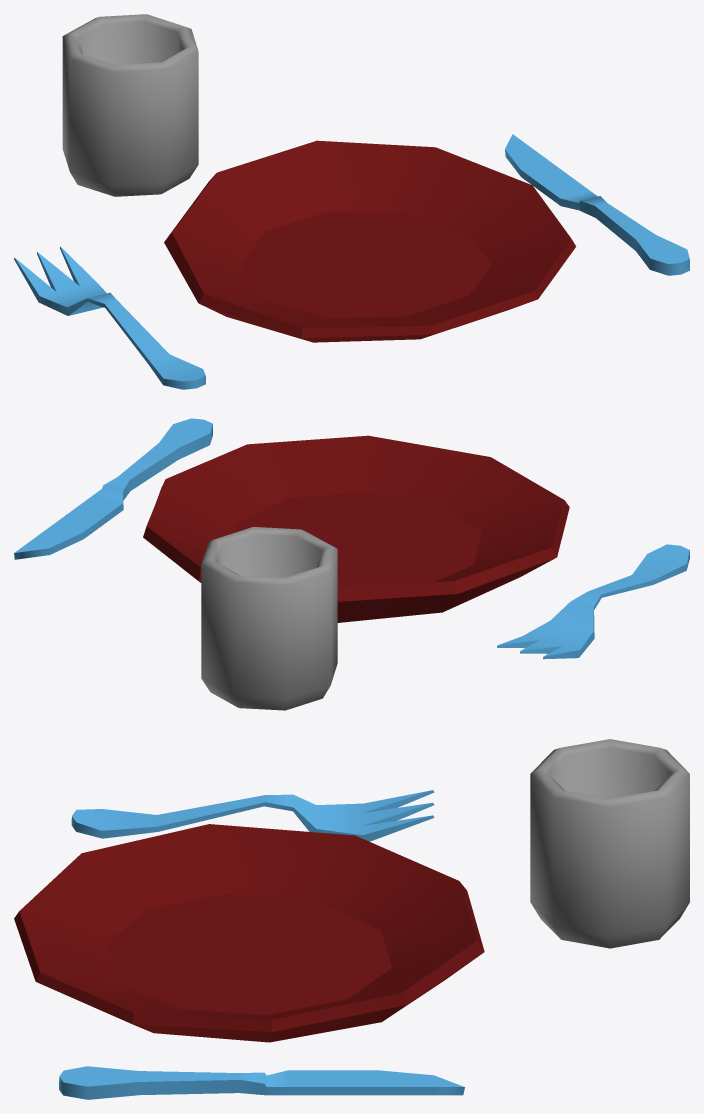
The model's file is Crockery.FBX.
3 views of the same model, one above another, from view 1: azimuth 30°, elevation 25°; view 2: azimuth 150°, elevation 25°; view 3: azimuth 270°, elevation 25° (orthographic). The views are drawn at different scales.
Parts seen in each view (by area): view 1: crockery; view 2: crockery; view 3: crockery.
Part boxes in pixels (<box>): crockery: <box>14,14,689,389</box>; crockery: <box>14,418,689,710</box>; crockery: <box>14,739,689,1099</box>.
Bounding box in the file's own units: 3.67 × 0.9015 × 3.59.
